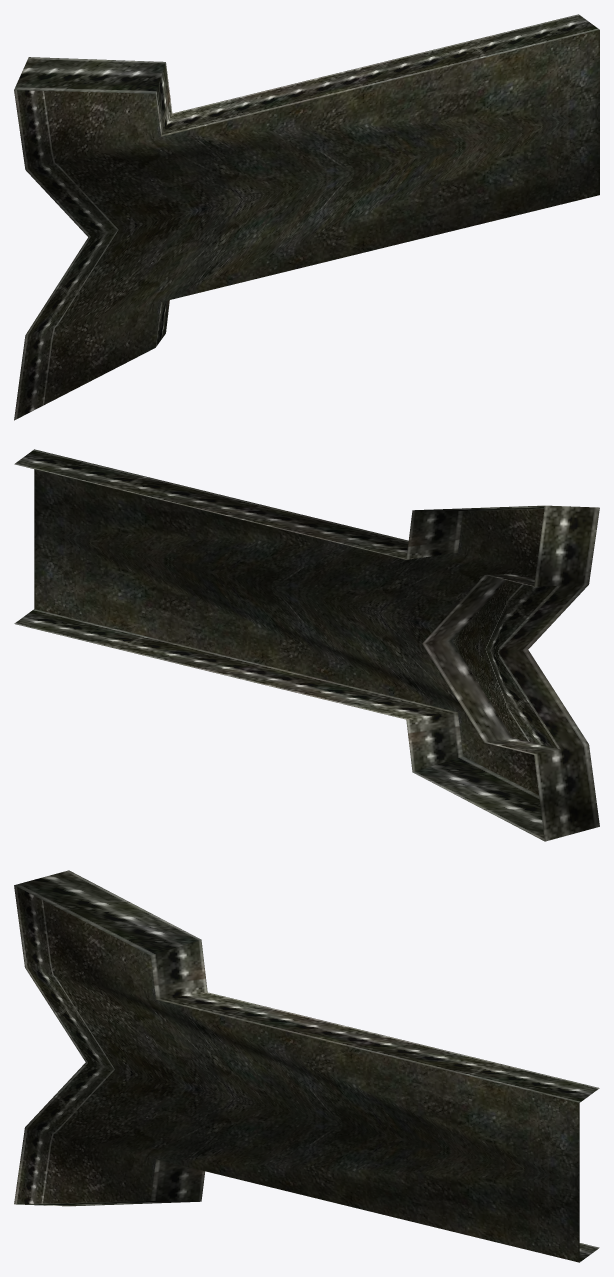
File: EVT_MAINHALL_DOOR_CLAW_RIGHT_01.glb
The picture shows the model from 3 angles, top to bottom: view 1: azimuth 30°, elevation 25°; view 2: azimuth 150°, elevation 25°; view 3: azimuth 330°, elevation 25°; orthographic projection. The views are drawn at different scales.
Parts seen in each view (by area): view 1: Mesh; view 2: Mesh; view 3: Mesh.
Part boxes in pixels (x1=…): Mesh: x1=14, y1=14, x2=599, y2=420; Mesh: x1=14, y1=449, x2=599, y2=841; Mesh: x1=14, y1=870, x2=599, y2=1262.
Size of the model in its own units: 0.8005 by 0.4545 by 0.05.
1 material, 1 textured.
